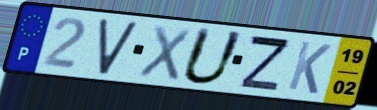2: (40, 16, 86, 71)
K: (285, 39, 334, 97)
U: (178, 25, 248, 87)
V: (97, 18, 141, 77)
X: (135, 23, 193, 83)
Z: (237, 33, 292, 93)
